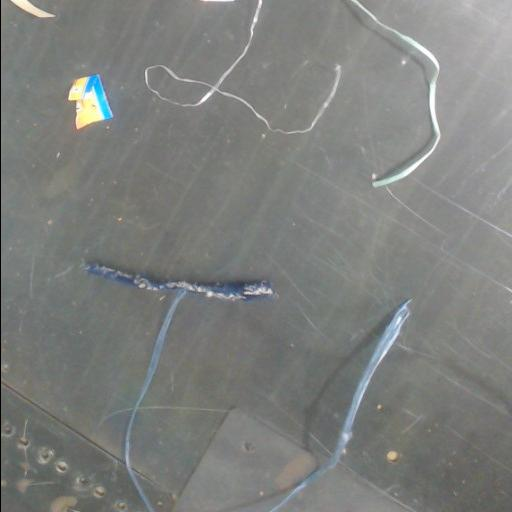cloth: (86, 265, 274, 300)
conveyor belt: (1, 0, 512, 511)
packet: (68, 76, 112, 129)
thread: (144, 0, 340, 134), (342, 0, 440, 187), (10, 0, 55, 17)
wood: (265, 300, 410, 511), (123, 282, 234, 511)
